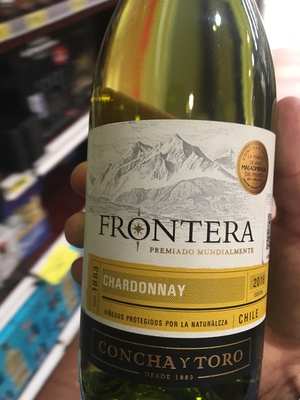frontera chardonnay: (71, 19, 278, 397)
